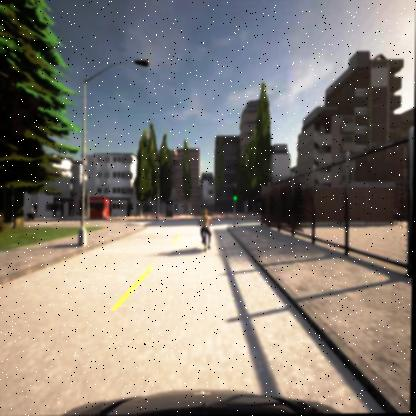bike: (199, 208, 213, 252)
